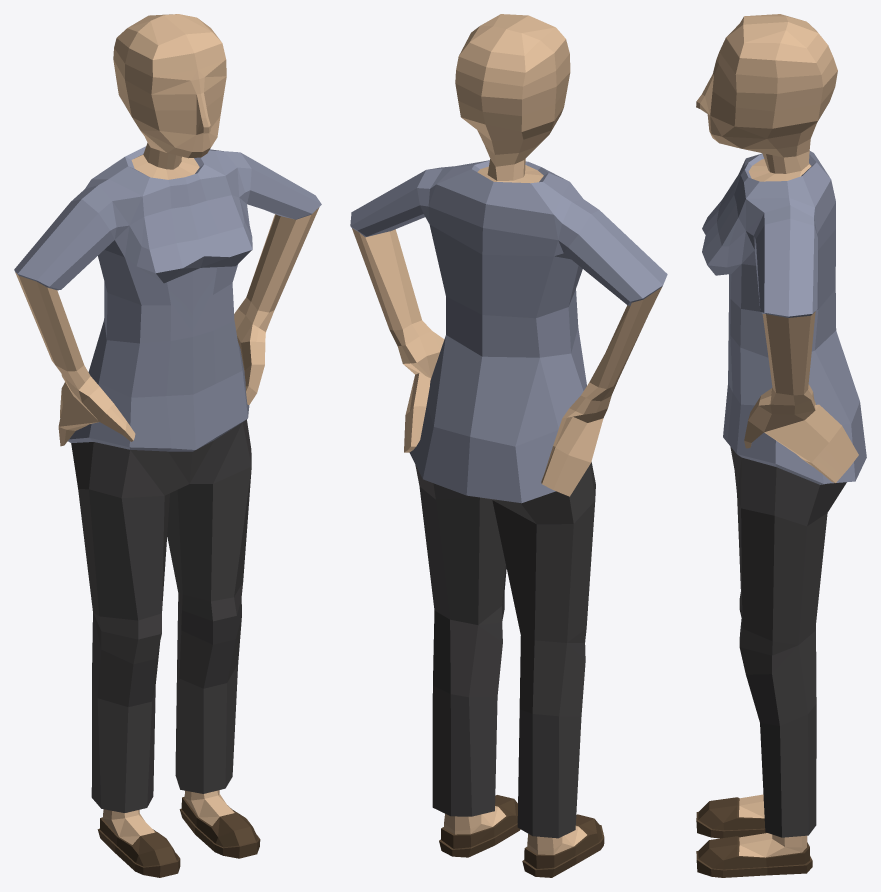
The model's file is Female_Standing_Hips.glb.
3 views of the same model, side by side, from view 1: azimuth 30°, elevation 25°; view 2: azimuth 150°, elevation 25°; view 3: azimuth 270°, elevation 25° (orthographic).
Parts seen in each view (by area): view 1: Female_Standing_Hips; view 2: Female_Standing_Hips; view 3: Female_Standing_Hips.
Part boxes in pixels (x1,y1,x2,y2): Female_Standing_Hips: [14, 14, 321, 877]; Female_Standing_Hips: [350, 14, 667, 877]; Female_Standing_Hips: [696, 14, 866, 877].
Size of the model in its own units: 1.44 by 3.72 by 0.6972.
